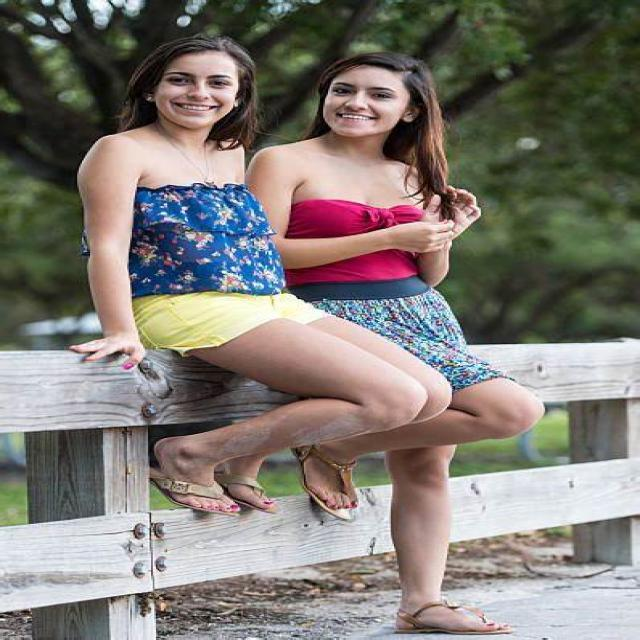No_Glove: (63, 326, 142, 368), (430, 188, 481, 232), (395, 219, 456, 254)
No_Goggles: (323, 77, 408, 103), (157, 68, 239, 92)
No_Helmet: (139, 32, 257, 78), (316, 51, 437, 89)
No_Shoe: (146, 445, 289, 518), (387, 591, 514, 637)
